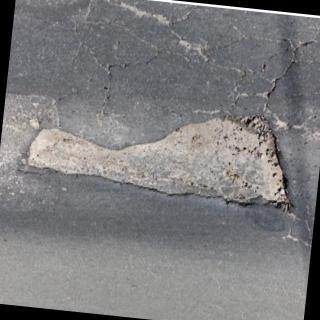pothole: (26, 116, 296, 213)
